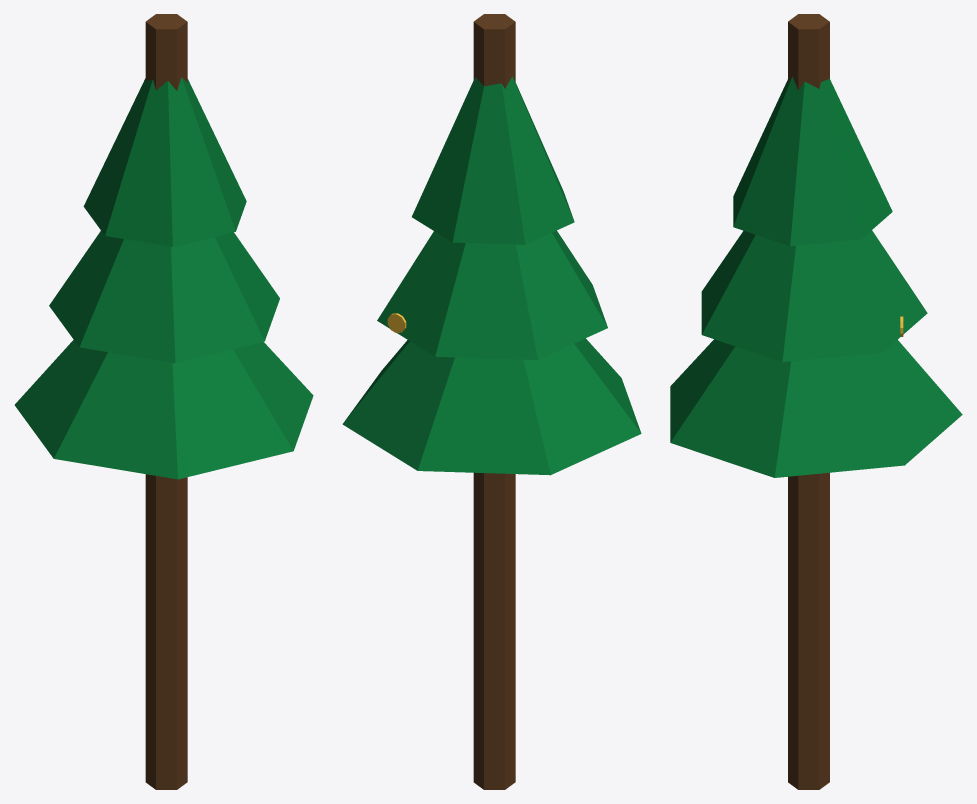
File: Prop_OR_LedgerTree_16.glb
3 views of the same model, side by side, from view 1: azimuth 30°, elevation 25°; view 2: azimuth 150°, elevation 25°; view 3: azimuth 270°, elevation 25° (orthographic).
Visible parts, largest first — view 1: Prop_OR_LedgerTree_16; view 2: Prop_OR_LedgerTree_16; view 3: Prop_OR_LedgerTree_16.
Boxes of the visible parts, x1=… form: Prop_OR_LedgerTree_16: x1=14, y1=14, x2=313, y2=789; Prop_OR_LedgerTree_16: x1=342, y1=14, x2=641, y2=789; Prop_OR_LedgerTree_16: x1=670, y1=14, x2=962, y2=789.
Size of the model in its own units: 2.14 by 6 by 2.09.
